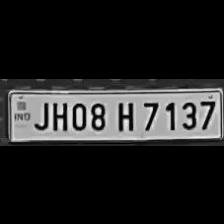0: (68, 98, 88, 130)
1: (159, 98, 177, 130)
3: (178, 97, 196, 129)
7: (138, 97, 160, 130), (196, 96, 216, 130)
8: (88, 98, 108, 130)
H: (112, 97, 136, 131), (48, 97, 68, 130)
J: (31, 97, 49, 130)
